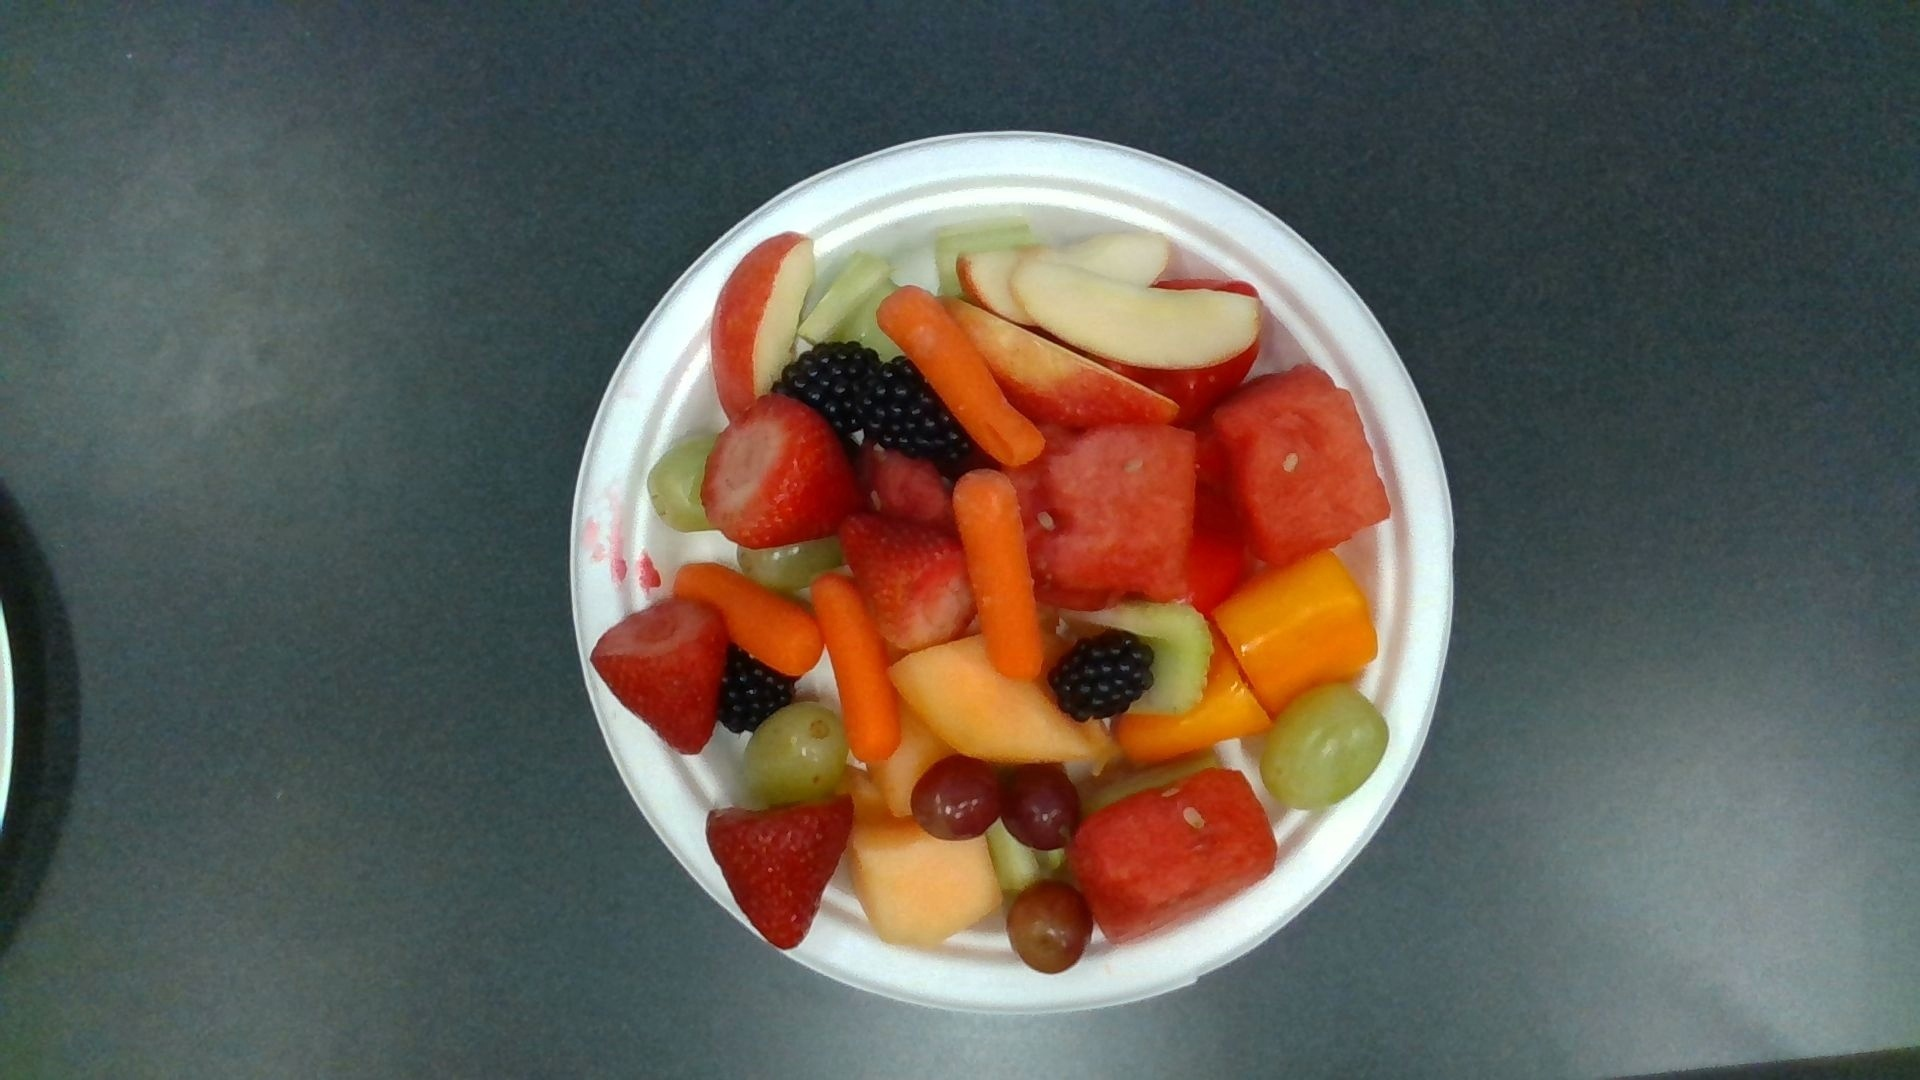apple: (947, 305, 1179, 423), (1015, 253, 1261, 365), (712, 235, 814, 415)
bell_pepper: (1215, 553, 1377, 708)
blackberry: (1050, 632, 1155, 720), (775, 345, 880, 429)
cantalope: (889, 632, 1116, 761), (844, 822, 1004, 945)
carrot: (880, 286, 1044, 465), (953, 471, 1042, 684), (808, 575, 895, 764), (675, 564, 819, 676)
grape_green: (1262, 684, 1389, 804)
grape_purple: (1010, 884, 1092, 975), (913, 760, 1000, 840)
melon: (1067, 773, 1279, 940), (1211, 368, 1390, 551), (1025, 425, 1197, 593)
strawberry: (705, 396, 862, 550), (705, 796, 855, 949), (592, 601, 725, 756), (843, 513, 972, 645)
